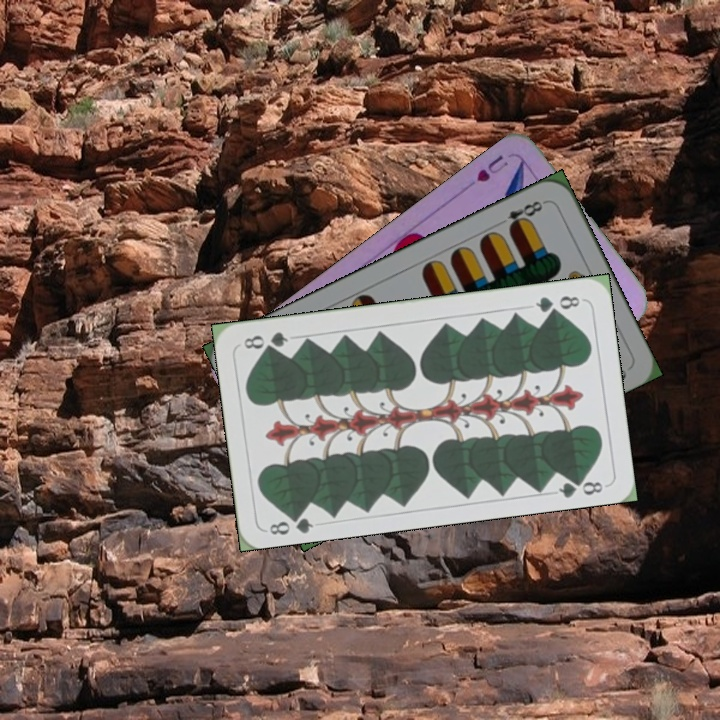E8: (493, 196, 549, 233)
G8: (265, 507, 316, 538), (531, 291, 583, 316)
HU: (472, 150, 511, 185)
